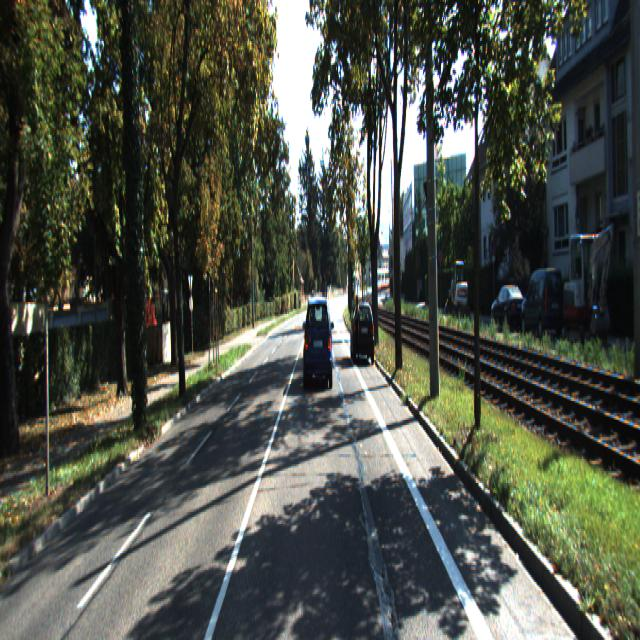Car: (562, 227, 598, 340), (521, 264, 566, 338), (303, 301, 334, 399), (492, 282, 529, 332), (350, 300, 374, 364), (453, 262, 468, 317)
